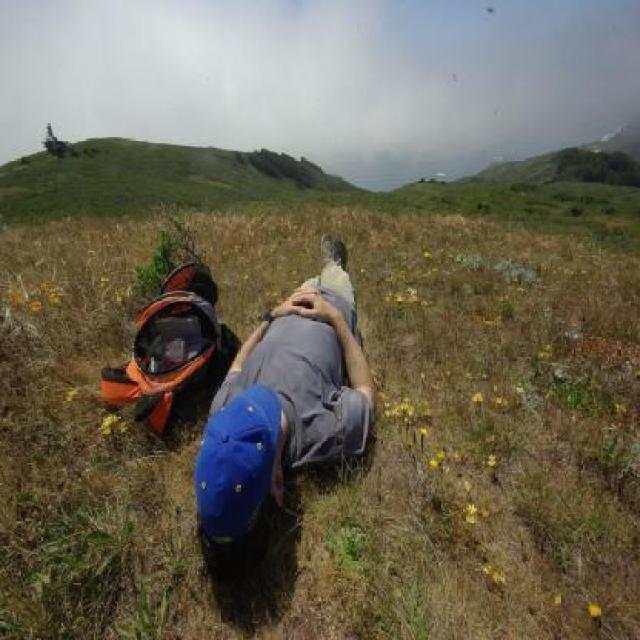backpack: (92, 248, 257, 450)
